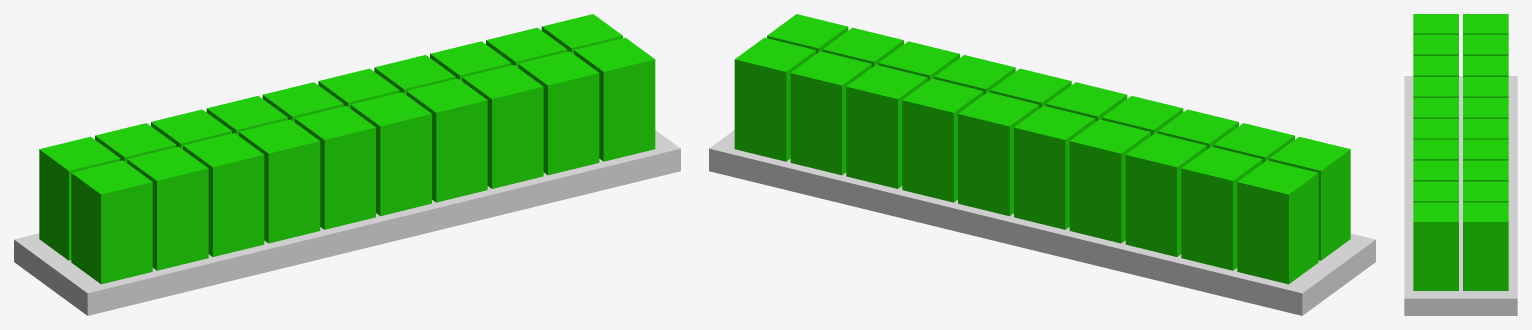
File: testShelf.fbx
3 views of the same model, side by side, from view 1: azimuth 30°, elevation 25°; view 2: azimuth 150°, elevation 25°; view 3: azimuth 270°, elevation 25° (orthographic). The views are drawn at different scales.
Parts seen in each view (by area): view 1: shelf4.001, med1, med1.002, med1.004, med1.006, med1.014, med1.016, med1.018, med1.010, med1.008, med1.012, med1.001 (+9 smaller); view 2: shelf4.001, med1.001, med1.003, med1.005, med1.015, med1.007, med1.017, med1.019, med1.011, med1.013, med1.009, med1 (+9 smaller); view 3: shelf4.001, med1.018, med1.019, med1.012, med1.013, med1.014, med1.015, med1.016, med1.017, med1, med1.001, med1.002 (+9 smaller).
Boxes of the visible parts, x1,y1,x2,y2 form: shelf4.001: (14,130,680,315); med1: (71,160,152,284); med1.002: (127,146,208,270); med1.004: (183,133,264,256); med1.006: (239,119,320,243); med1.014: (462,65,543,188); med1.016: (518,51,599,175); med1.018: (574,37,655,161); med1.010: (350,92,431,216); med1.008: (294,106,375,229); med1.012: (406,78,487,202); med1.001: (39,136,120,260); shelf4.001: (709,130,1375,315); med1.001: (1237,160,1318,284); med1.003: (1181,146,1262,270); med1.005: (1125,133,1206,256); med1.015: (846,65,927,188); med1.007: (1069,119,1150,243); med1.017: (790,51,871,175); med1.019: (734,37,815,161); med1.011: (958,92,1039,216); med1.013: (902,78,983,202); med1.009: (1014,106,1095,229); med1: (1269,136,1350,260); shelf4.001: (1404,76,1517,315); med1.018: (1413,202,1458,290); med1.019: (1463,202,1508,290); med1.012: (1413,139,1458,160); med1.013: (1463,139,1508,160); med1.014: (1413,160,1458,181); med1.015: (1463,160,1508,181); med1.016: (1413,181,1458,202); med1.017: (1463,181,1508,202); med1: (1413,14,1458,34); med1.001: (1463,14,1508,34); med1.002: (1413,35,1458,55).
Size of the model in its own units: 138 by 25.03 by 29.71.
